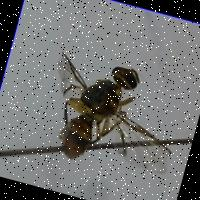Oriental-fruit-fly: (15, 32, 192, 199)
